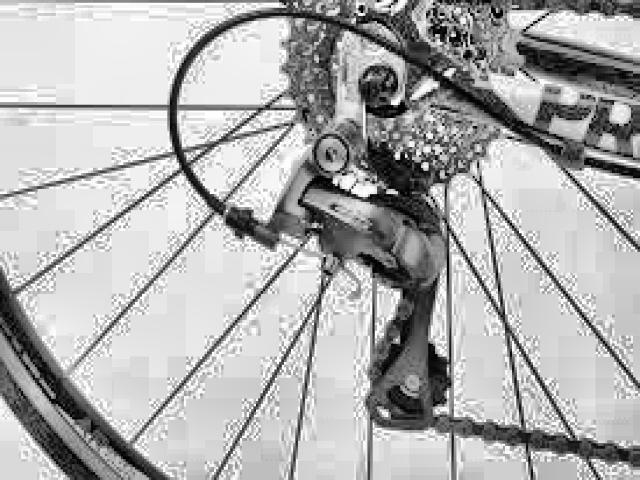cassette: (280, 0, 522, 189)
rear_derailleur: (222, 128, 456, 431)
